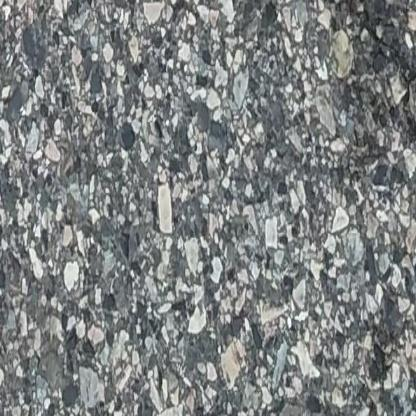Cracks: (369, 0, 416, 134)
